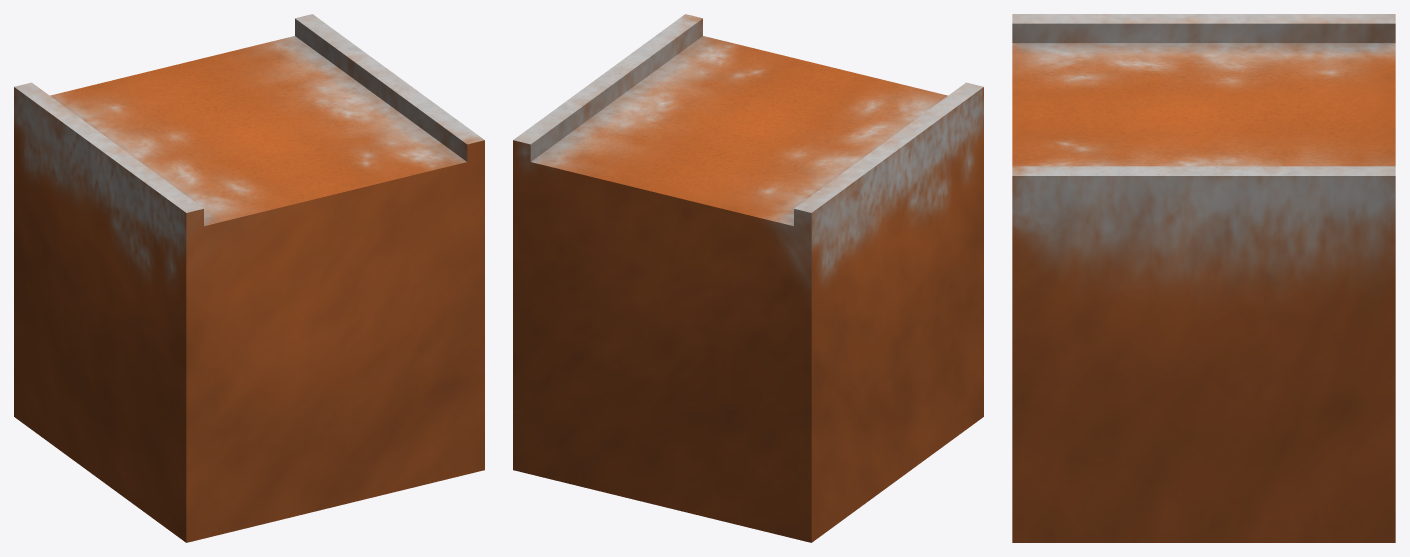
The model's file is track.glb.
3 views of the same model, side by side, from view 1: azimuth 30°, elevation 25°; view 2: azimuth 150°, elevation 25°; view 3: azimuth 270°, elevation 25° (orthographic). The views are drawn at different scales.
Visible parts, largest first — view 1: Cube; view 2: Cube; view 3: Cube.
Part boxes in pixels (x1,y1,x2,y2): Cube: (14, 14, 484, 542); Cube: (513, 14, 983, 542); Cube: (1012, 14, 1395, 542).
Bounding box in the file's own units: 1 × 1.06 × 1.
Materials: 1 (1 with a texture image).
